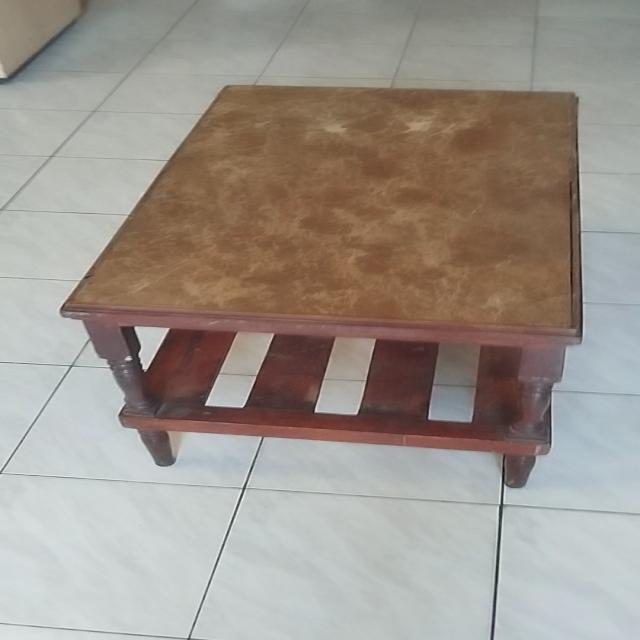table: (64, 78, 594, 503)
